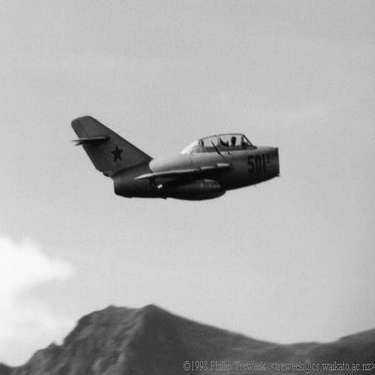airplane: (60, 109, 285, 206)
